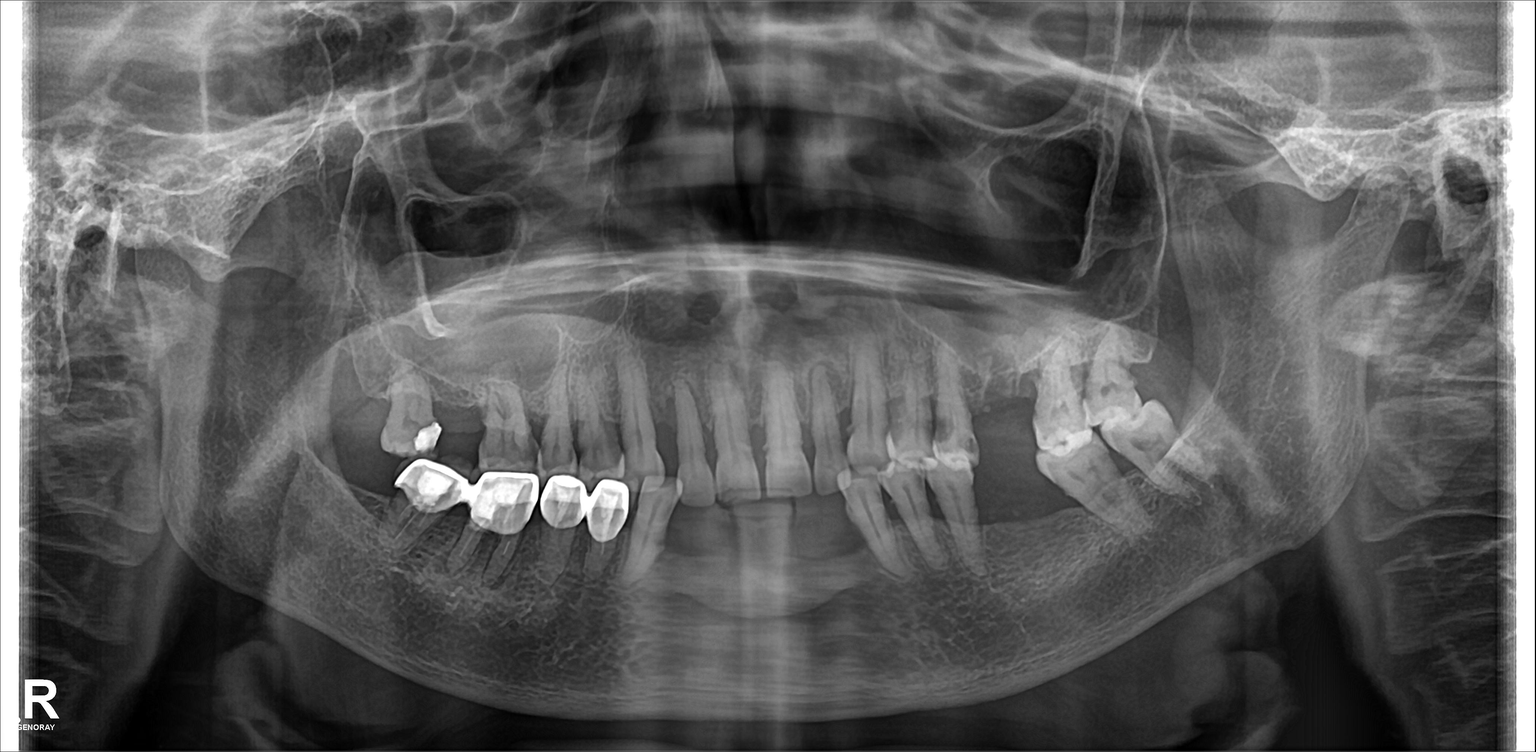Endodontically Treated Tooth: (484, 469, 527, 590), (408, 478, 462, 557), (592, 486, 626, 593), (540, 480, 572, 590)
Missing Tooth: (1030, 478, 1088, 584), (683, 508, 743, 609), (818, 488, 863, 603), (343, 357, 392, 451), (987, 471, 1026, 579), (987, 361, 1029, 453), (754, 497, 791, 597), (439, 389, 483, 472), (1138, 318, 1181, 399), (354, 469, 393, 544)
